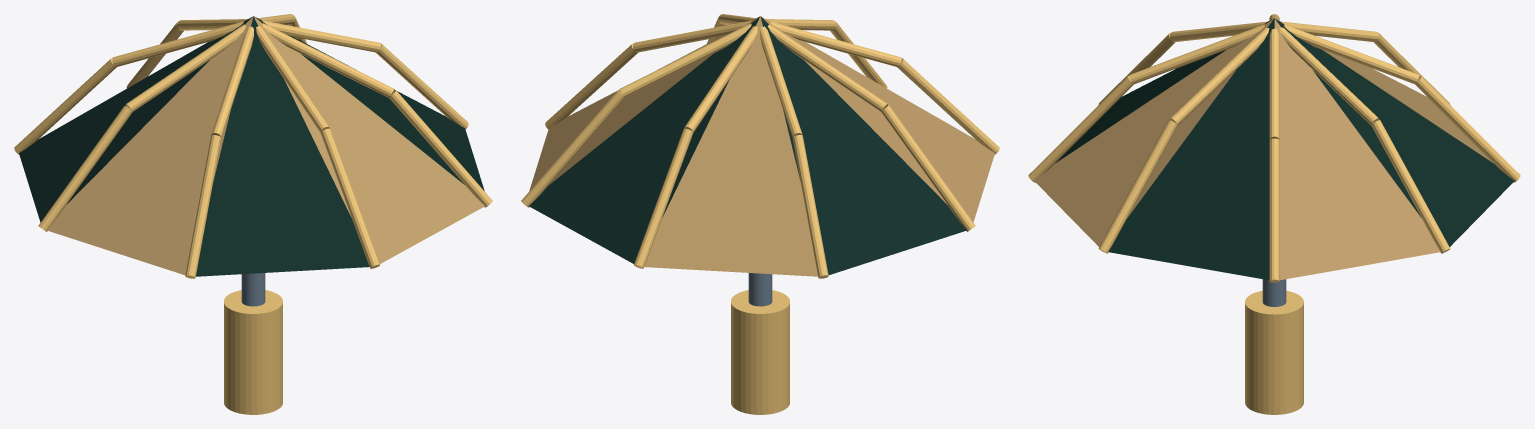
Rendered from foldumbrella.glb.
3 views of the same model, side by side, from view 1: azimuth 30°, elevation 25°; view 2: azimuth 150°, elevation 25°; view 3: azimuth 270°, elevation 25° (orthographic).
Parts seen in each view (by area): view 1: panel2, panel3, panel1, panel4, handle, panel0, rib21, rib41, rib31, rib11, rib10, rib40 (+9 smaller); view 2: panel5, panel4, panel6, panel3, handle, panel7, rib61, rib41, rib51, rib71, rib70, rib40 (+9 smaller); view 3: panel0, panel7, panel1, panel6, handle, panel2, panel5, rib11, rib71, rib01, rib20, rib60 (+10 smaller).
Boxes of the visible parts, x1=… form: panel2: x1=196, y1=16, x2=369, y2=276; panel3: x1=47, y1=16, x2=253, y2=274; panel1: x1=254, y1=17, x2=484, y2=263; panel4: x1=19, y1=16, x2=252, y2=222; handle: x1=224, y1=290, x2=282, y2=414; panel0: x1=254, y1=16, x2=484, y2=190; rib21: x1=320, y1=128, x2=379, y2=268; rib41: x1=38, y1=105, x2=132, y2=231; rib31: x1=185, y1=135, x2=221, y2=278; rib11: x1=389, y1=90, x2=492, y2=207; rib10: x1=262, y1=23, x2=394, y2=97; rib40: x1=126, y1=24, x2=246, y2=111; panel5: x1=644, y1=16, x2=817, y2=276; panel4: x1=760, y1=16, x2=966, y2=274; panel6: x1=529, y1=17, x2=759, y2=263; panel3: x1=761, y1=16, x2=994, y2=222; handle: x1=731, y1=290, x2=789, y2=414; panel7: x1=529, y1=16, x2=759, y2=190; rib61: x1=634, y1=128, x2=693, y2=268; rib41: x1=881, y1=105, x2=975, y2=231; rib51: x1=792, y1=135, x2=828, y2=278; rib71: x1=521, y1=90, x2=624, y2=207; rib70: x1=619, y1=23, x2=751, y2=97; rib40: x1=767, y1=24, x2=887, y2=111; panel0: x1=1108, y1=18, x2=1274, y2=280; panel7: x1=1274, y1=19, x2=1440, y2=280; panel1: x1=1034, y1=18, x2=1273, y2=246; panel6: x1=1275, y1=18, x2=1514, y2=246; handle: x1=1245, y1=290, x2=1303, y2=414; panel2: x1=1055, y1=18, x2=1273, y2=163; panel5: x1=1275, y1=18, x2=1493, y2=163; rib11: x1=1098, y1=120, x2=1177, y2=253; rib71: x1=1371, y1=120, x2=1450, y2=253; rib01: x1=1269, y1=138, x2=1279, y2=282; rib20: x1=1129, y1=24, x2=1264, y2=84; rib60: x1=1284, y1=24, x2=1419, y2=84.
Bounding box in the file's own units: 1.67 × 1.44 × 1.67.
